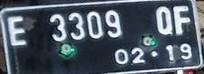0: (84, 10, 104, 40)
3: (64, 12, 88, 42), (45, 12, 67, 42)
9: (102, 9, 126, 40)
E: (7, 16, 30, 48)
F: (172, 4, 192, 36)
Q: (154, 6, 176, 36)
